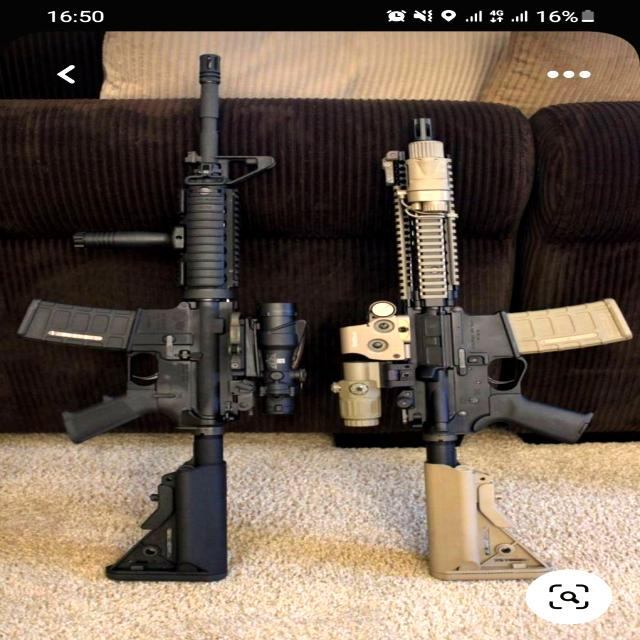m16: (0, 40, 342, 501)
